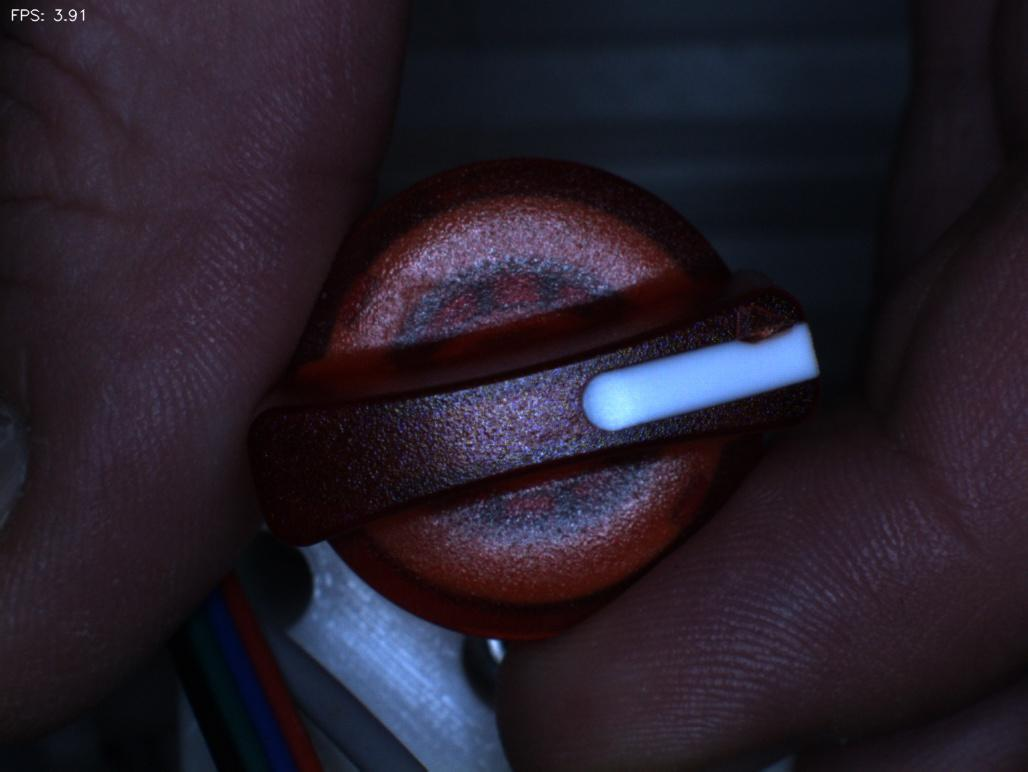Choc: (719, 275, 813, 361)
